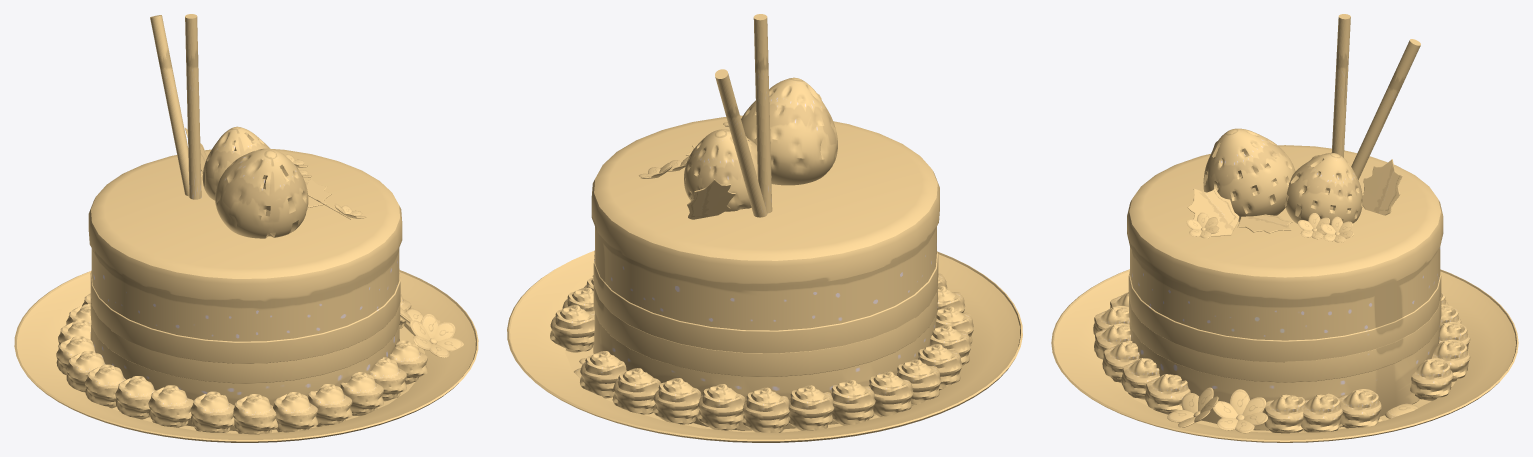
The model's file is cake.fbx.
The picture shows the model from 3 angles, left to right: view 1: azimuth 30°, elevation 25°; view 2: azimuth 150°, elevation 25°; view 3: azimuth 270°, elevation 25°; orthographic projection. The views are drawn at different scales.
Parts seen in each view (by area): view 1: Circle; view 2: Circle; view 3: Circle.
Part boxes in pixels (<box>): Circle: <box>14,14,478,442</box>; Circle: <box>507,14,1022,442</box>; Circle: <box>1051,14,1518,442</box>.
Size of the model in its own units: 315 by 257 by 315.
Materials: 12 (12 with a texture image).
